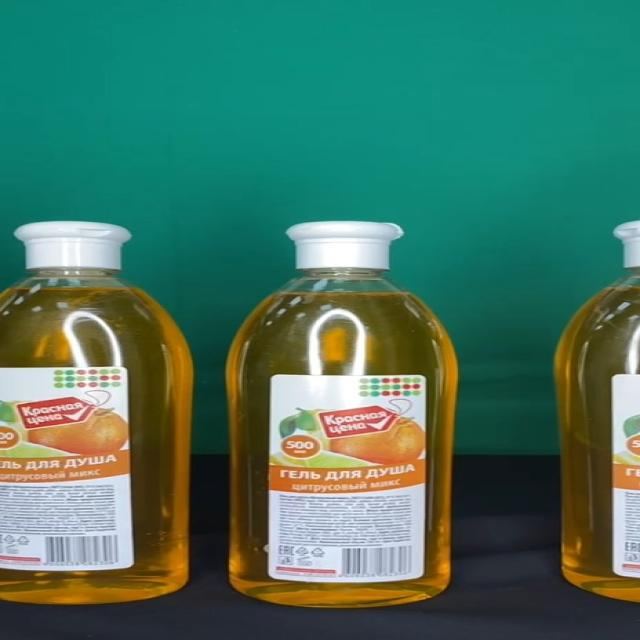Bottle: (226, 221, 459, 608), (0, 222, 194, 603)
Cap: (286, 221, 405, 270), (15, 222, 131, 271)
